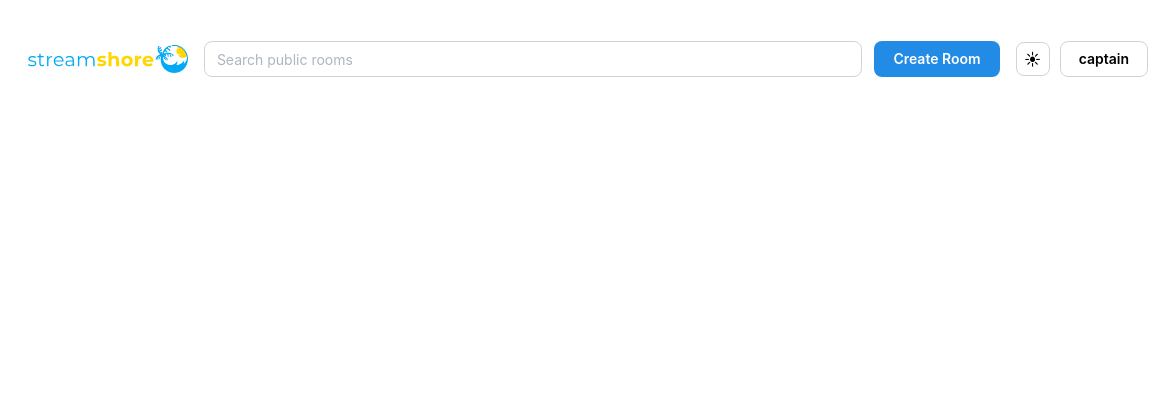
Test: PrimaryNavigation › opens the top room match when search is submitted
The width and height of the screenshot is (1164, 419).
Type "blue" into the search field labelled "Search public rooms". click: point(533, 59)
box: [204,41,862,77]
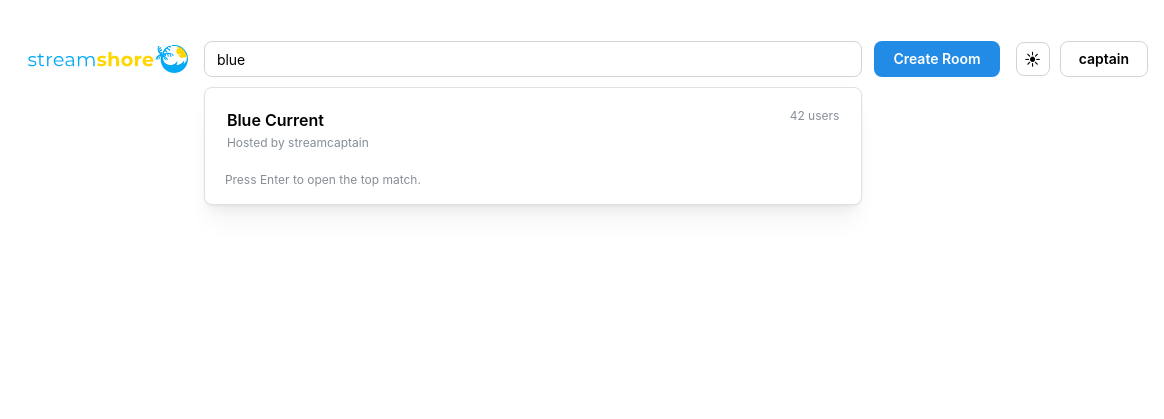
Expected: the link "Blue Current Hosted by streamcaptain 42 users" is shown, [215,98,851,162]
Submit the form named "Search public rooms", box [204,41,862,77]
(page scrolled)
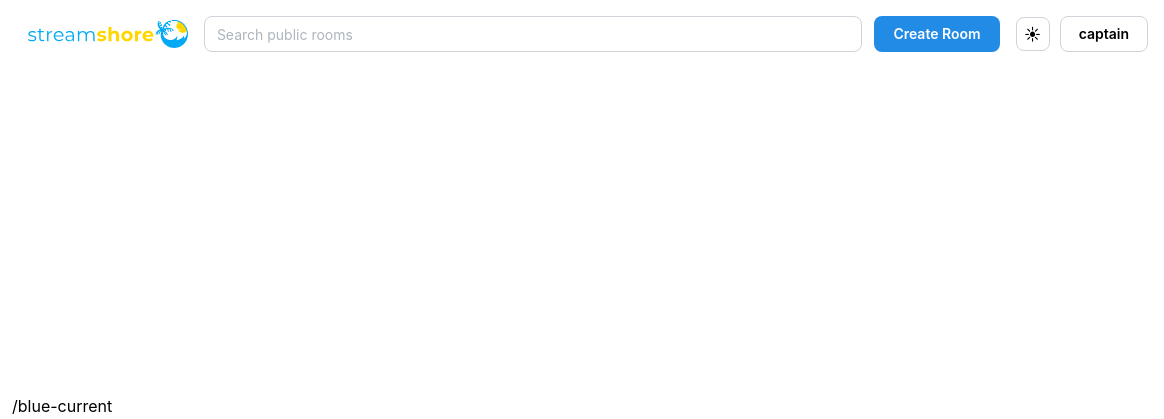
Expected: the text with test id "current-location" reads "/blue-current", [12,396,112,416]
